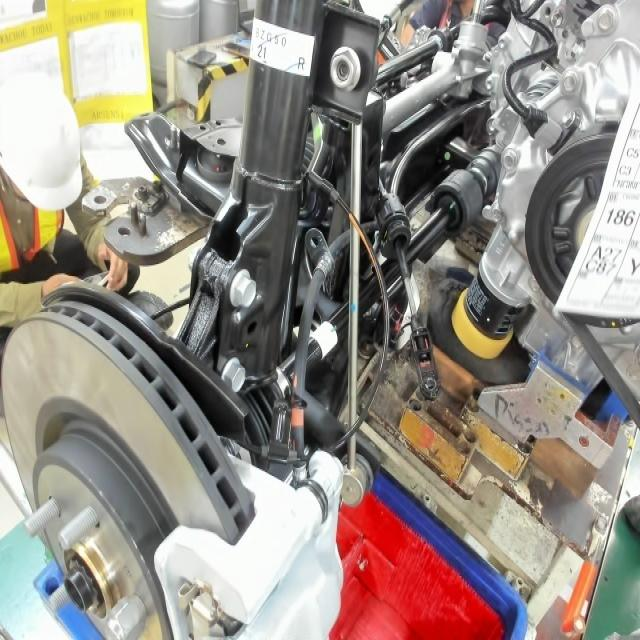Absorber RH-21: (253, 39, 275, 65)
Disc-HT: (23, 385, 187, 640)
Drive Shaft-PT: (308, 317, 341, 362)
